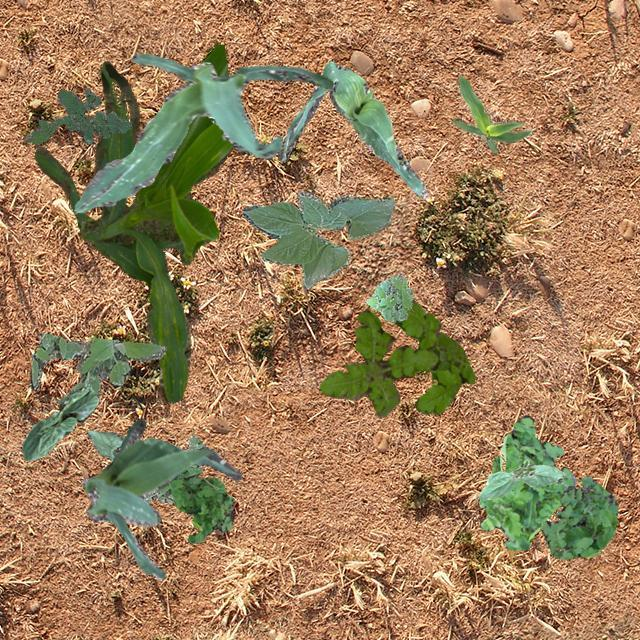crop: (34, 44, 232, 402), (72, 52, 332, 212), (80, 418, 240, 578), (276, 61, 426, 198), (242, 190, 394, 288), (452, 76, 532, 152), (22, 386, 98, 460), (476, 458, 564, 500), (85, 430, 124, 460)
weed: (318, 298, 474, 416), (478, 414, 576, 550), (28, 332, 165, 396), (540, 474, 616, 558), (22, 88, 130, 142), (170, 468, 233, 542), (142, 434, 204, 502), (364, 274, 412, 320)
